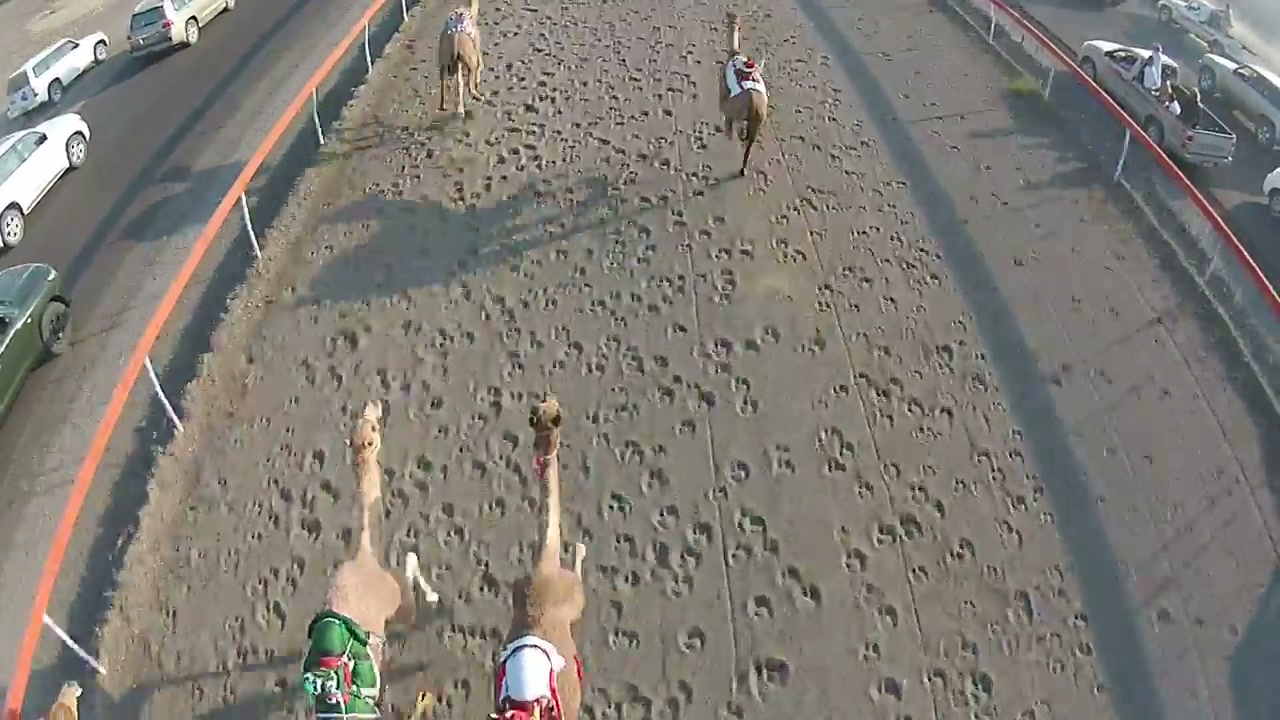animal_foot_print: (101, 0, 1108, 717)
